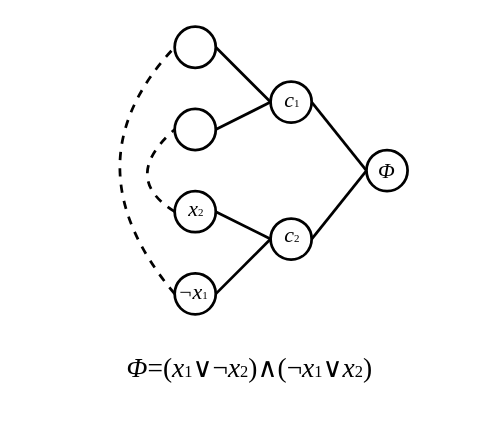
Image size: 499x447. Some labels were removed from this diagram. The centre of each missing label's shape, as x and y in pixels:
"x 1" goes at (194,46).
"￢ x 2" goes at (194,129).
